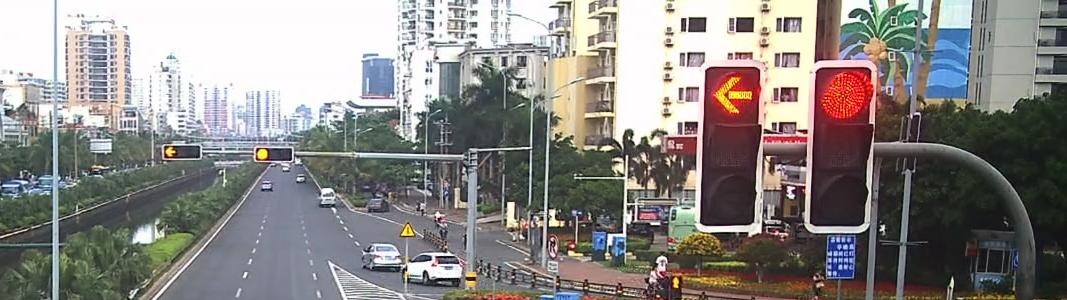red: (819, 69, 877, 124), (254, 146, 270, 159)
redleft: (713, 71, 756, 117), (158, 142, 177, 160)
redpeople: (672, 274, 681, 290)
